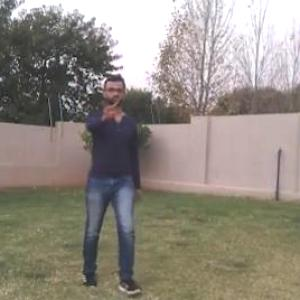takeoff-hand: (94, 90, 122, 126)
